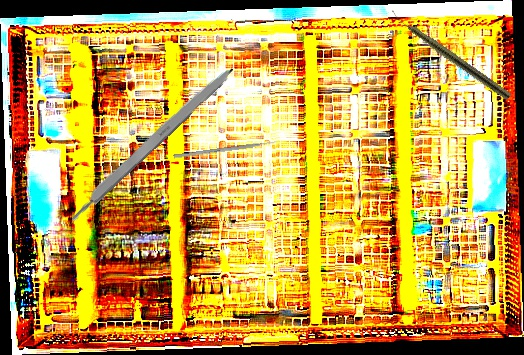Handpiece: (386, 7, 513, 102)
Pusher: (173, 139, 283, 159)
Scalpel Handle: (65, 61, 237, 224)
